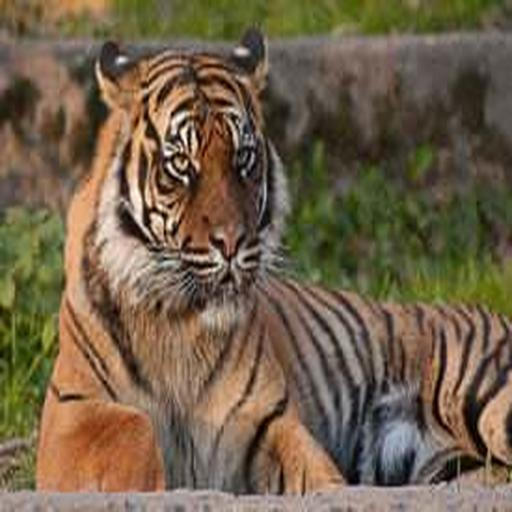Tiger: (26, 19, 512, 512)
